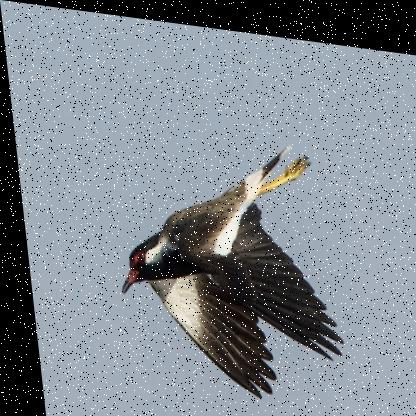Burung: (100, 116, 342, 400)
